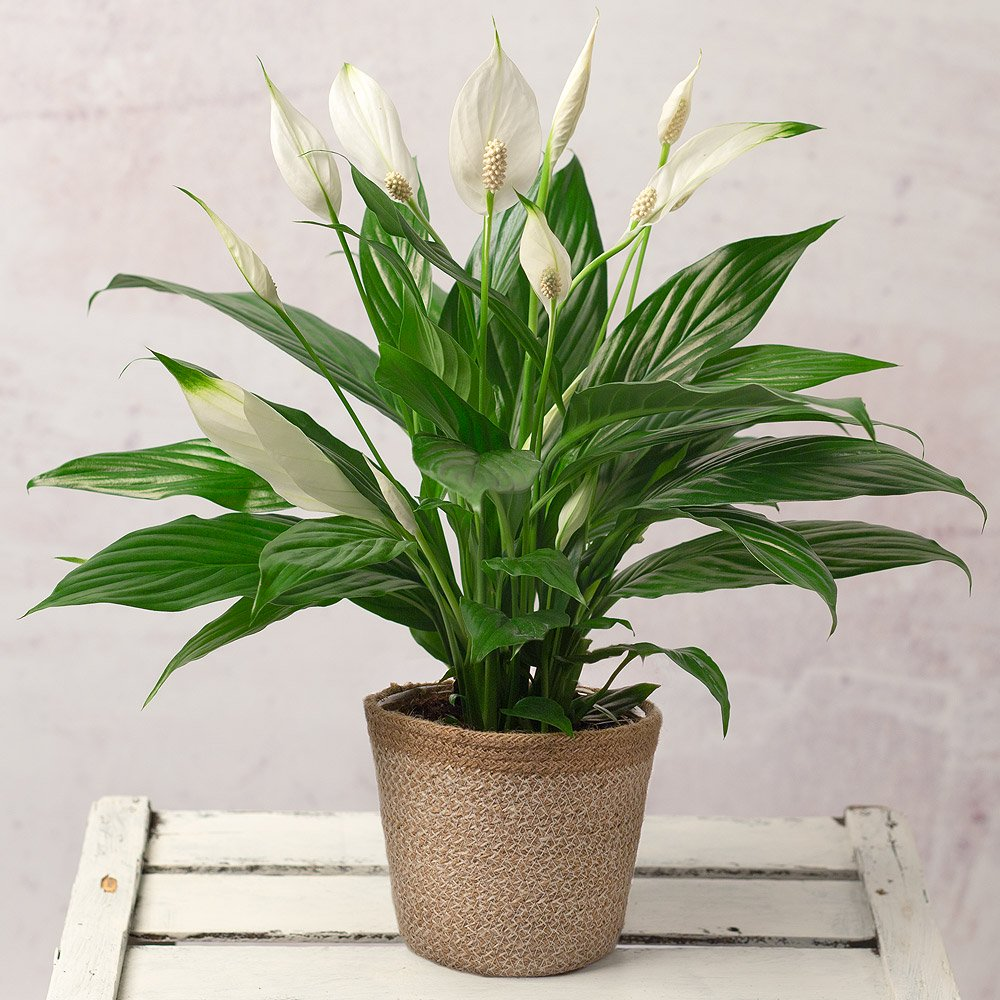plant: (214, 42, 835, 986)
